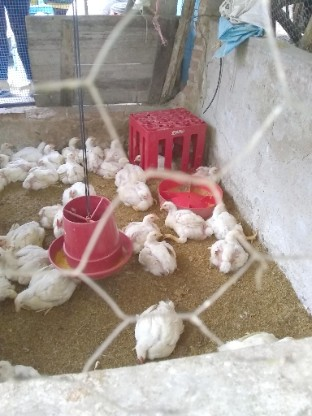Pollos: (128, 297, 198, 365), (12, 266, 77, 316), (131, 228, 180, 279), (203, 229, 256, 275), (215, 326, 295, 356), (160, 199, 209, 245), (0, 348, 46, 382), (209, 199, 243, 238), (0, 215, 39, 249), (22, 158, 58, 193), (191, 155, 229, 188), (116, 183, 159, 212), (16, 243, 51, 270), (59, 152, 90, 182), (62, 179, 99, 204), (82, 131, 103, 172), (120, 212, 160, 233), (48, 207, 70, 237), (111, 166, 151, 182), (14, 139, 44, 156), (62, 133, 84, 153), (111, 150, 130, 167), (107, 135, 125, 152), (0, 151, 14, 170), (134, 151, 156, 162), (0, 135, 14, 152), (44, 141, 57, 158)
